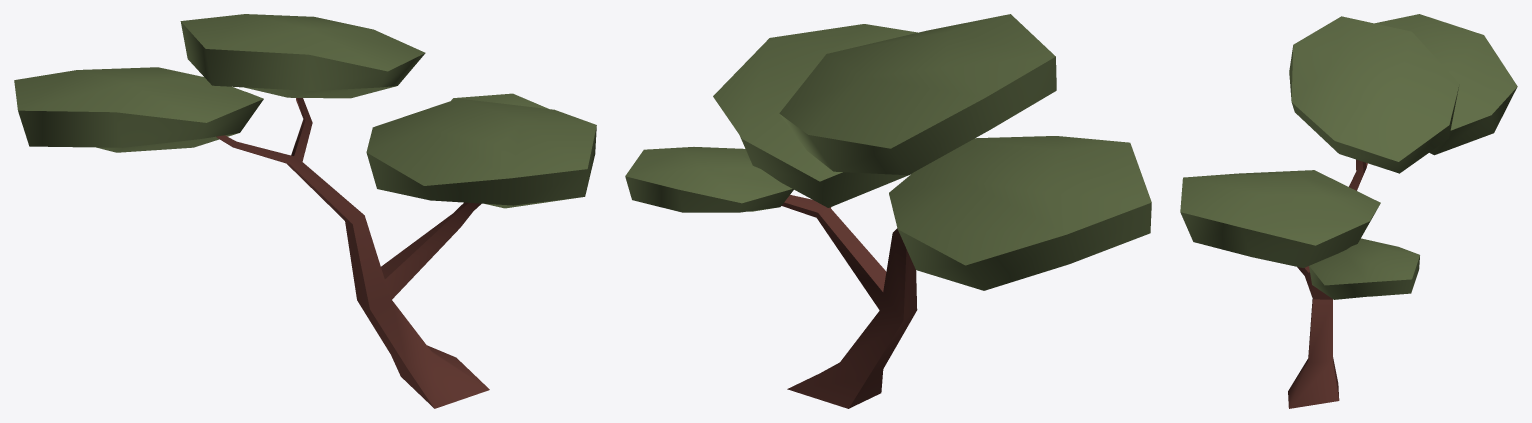
3 renders of one model, left to right at view 1: azimuth 30°, elevation 25°; view 2: azimuth 150°, elevation 25°; view 3: azimuth 270°, elevation 25°, orthographic. The views are drawn at different scales.
Parts seen in each view (by area): view 1: VikingShipObjects.003; view 2: VikingShipObjects.003; view 3: VikingShipObjects.003.
Part boxes in pixels (x1,y1,x2,y2): VikingShipObjects.003: [14, 14, 596, 408]; VikingShipObjects.003: [625, 14, 1151, 408]; VikingShipObjects.003: [1180, 14, 1517, 408].
Size of the model in its own units: 9.99 by 7.29 by 7.42.
1 material, 1 textured.
